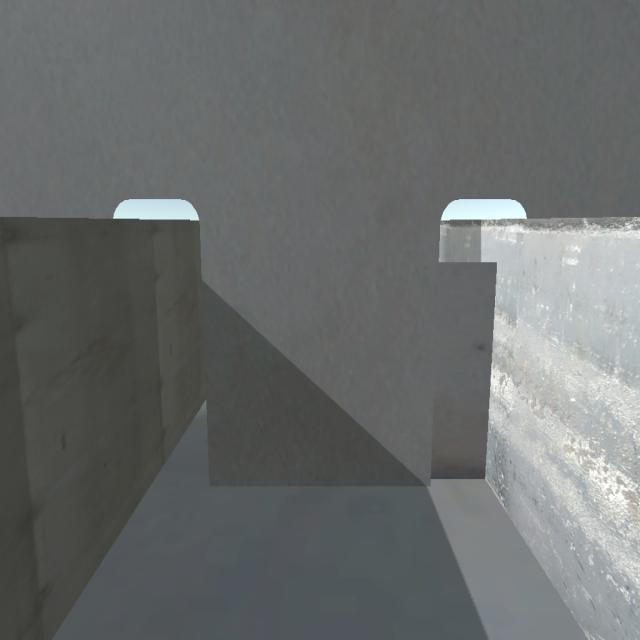fillet_yong_jeop_jang: (202, 475, 496, 495)
longi_yong_jeop_jang: (483, 256, 498, 477)
plate_behind: (439, 261, 489, 487)
